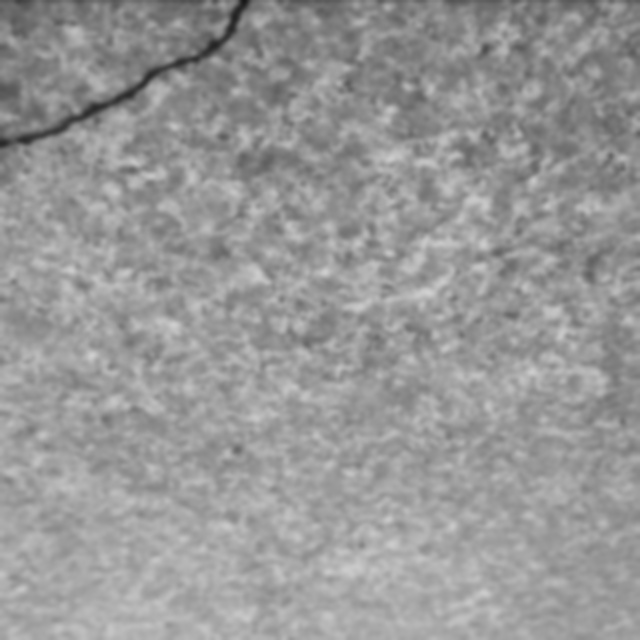SurfaceCrack: (0, 0, 269, 160)
